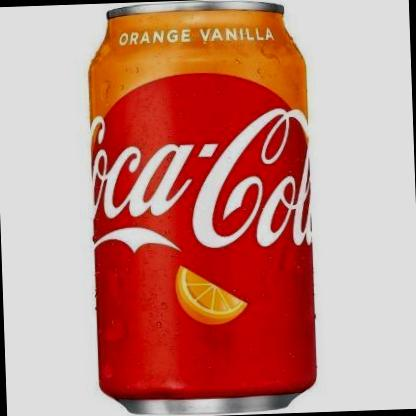alumunium_can: (83, 0, 322, 415)
